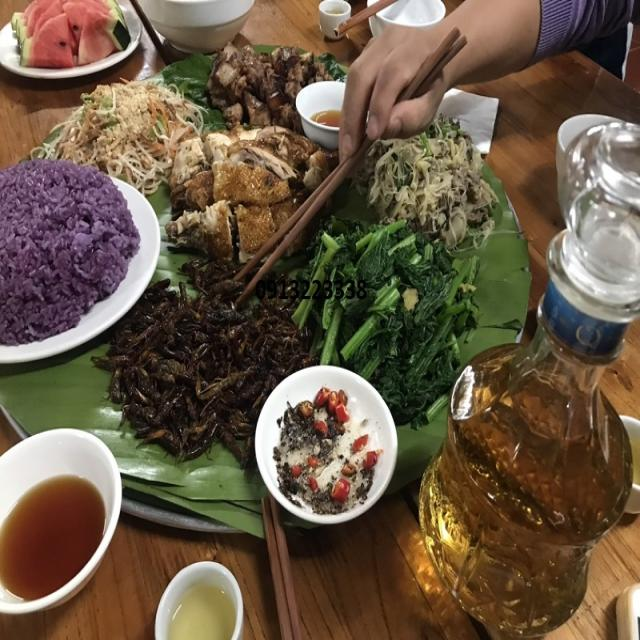de: (90, 274, 308, 460)
dua hau: (12, 0, 130, 71)
ga nuong: (173, 120, 332, 250)
goi: (43, 84, 194, 160)
heo quay: (209, 33, 325, 122)
muoi tieu chanh: (263, 368, 387, 514)
rau muong luoc: (310, 228, 448, 394)
ruou: (418, 117, 640, 634)
xoi: (0, 162, 136, 344)
